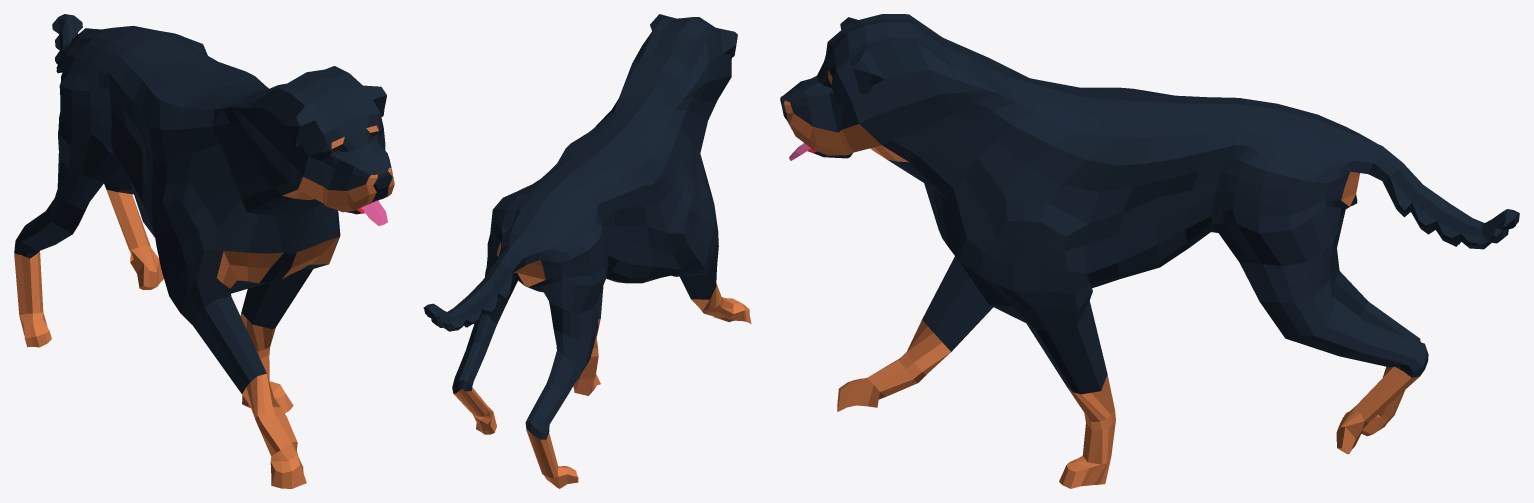
File: low-poly_rottweiler_dog.glb
The picture shows the model from 3 angles, left to right: view 1: azimuth 30°, elevation 25°; view 2: azimuth 150°, elevation 25°; view 3: azimuth 270°, elevation 25°; orthographic projection. The views are drawn at different scales.
Parts seen in each view (by area): view 1: Mesh_Base_Skin_0, Mesh_Orange_Marks_0, Mesh_Pink_0; view 2: Mesh_Base_Skin_0, Mesh_Orange_Marks_0; view 3: Mesh_Base_Skin_0, Mesh_Orange_Marks_0.
Part boxes in pixels (left/top/right/bottom): Mesh_Base_Skin_0: left=14, top=14, right=392, bottom=393; Mesh_Orange_Marks_0: left=14, top=125, right=394, bottom=488; Mesh_Pink_0: left=361, top=200, right=387, bottom=225; Mesh_Base_Skin_0: left=423, top=14, right=737, bottom=439; Mesh_Orange_Marks_0: left=453, top=242, right=751, bottom=488; Mesh_Base_Skin_0: left=780, top=14, right=1519, bottom=394; Mesh_Orange_Marks_0: left=784, top=58, right=1419, bottom=488.
Bounding box in the file's own units: 0.3591 × 0.8924 × 1.35.
